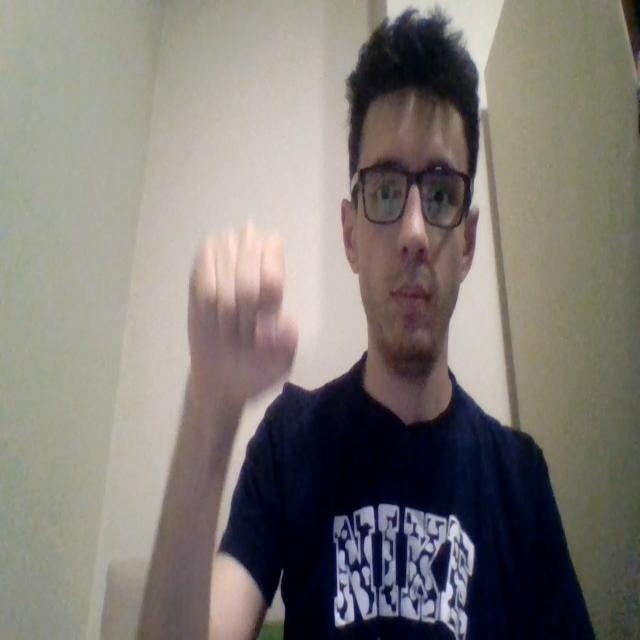yes: (186, 218, 298, 412)
